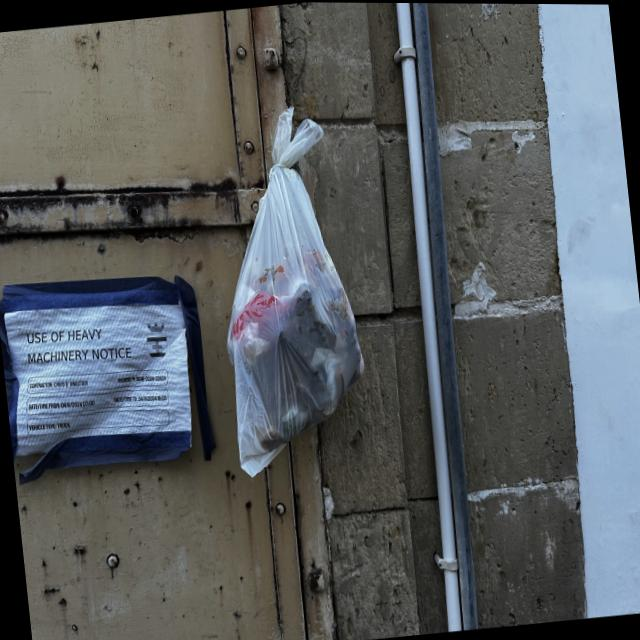Organic Waste -White Bags-: (226, 104, 364, 476)
